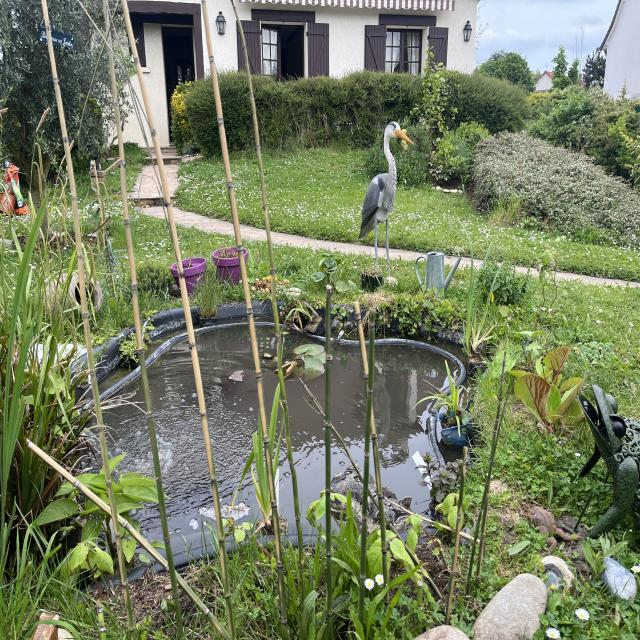Heron: (350, 113, 414, 285)
